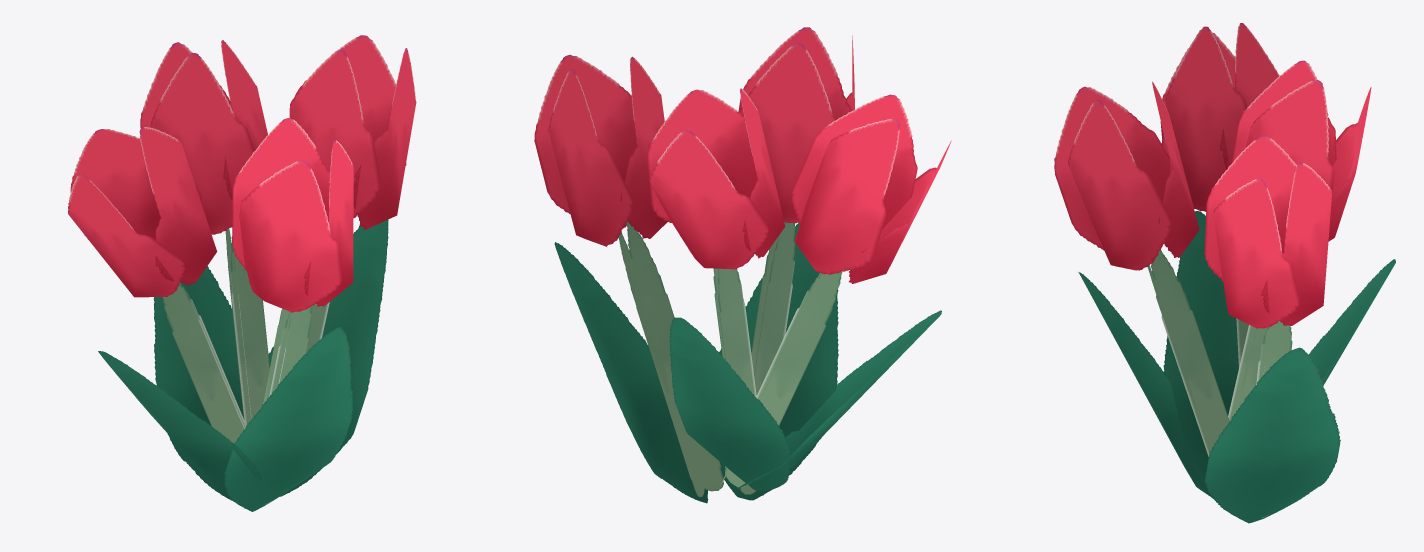
Rendered from Tulip_r_Cluster.fbx.
3 views of the same model, side by side, from view 1: azimuth 30°, elevation 25°; view 2: azimuth 150°, elevation 25°; view 3: azimuth 270°, elevation 25° (orthographic).
Parts seen in each view (by area): view 1: polySurface511; view 2: polySurface511; view 3: polySurface511.
Boxes of the visible parts, box(x1,y1,x2,y2) form: polySurface511: box(68, 35, 416, 511); polySurface511: box(534, 27, 951, 503); polySurface511: box(1054, 23, 1395, 523).
Size of the model in its own units: 0.3008 by 0.324 by 0.2443.
